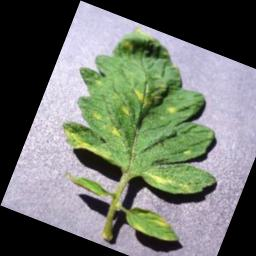Leaf_Mold: (58, 124, 118, 161), (127, 72, 169, 115), (143, 166, 180, 190), (105, 122, 125, 139), (152, 213, 172, 228), (118, 102, 135, 118), (131, 222, 150, 234), (91, 110, 104, 122)
